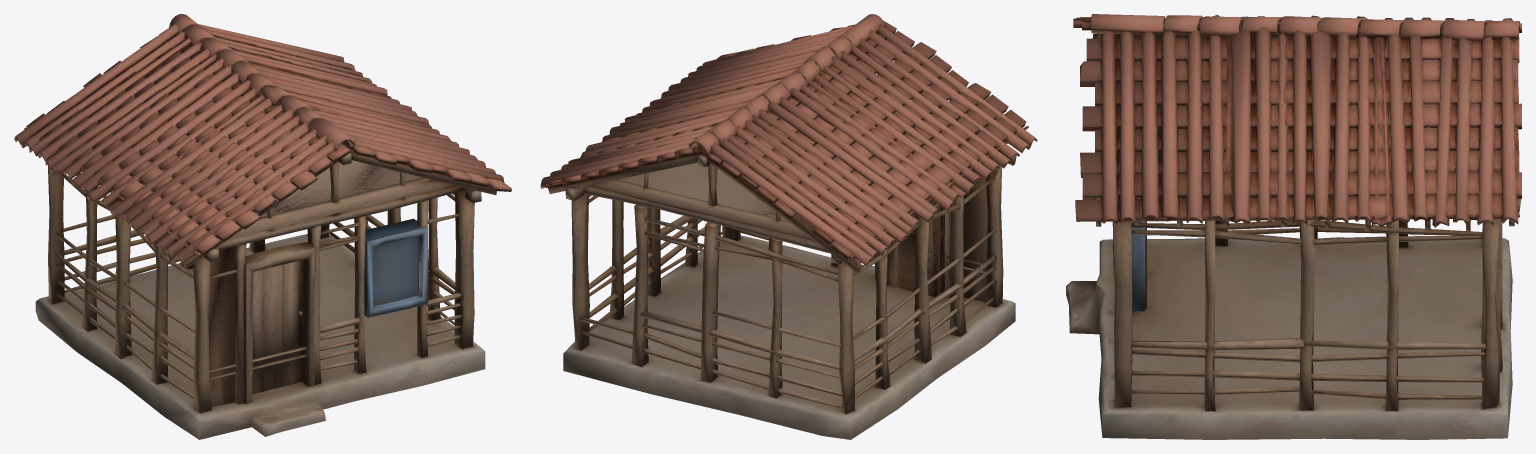
The model's file is casa_pau_a_pique.glb.
3 renders of one model, left to right at view 1: azimuth 30°, elevation 25°; view 2: azimuth 150°, elevation 25°; view 3: azimuth 270°, elevation 25°, orthographic. The views are drawn at different scales.
Visible parts, largest first — view 1: Casa de pau a pique; view 2: Casa de pau a pique; view 3: Casa de pau a pique.
Part boxes in pixels (x1=…): Casa de pau a pique: x1=14, y1=14, x2=511, y2=439; Casa de pau a pique: x1=540, y1=14, x2=1037, y2=439; Casa de pau a pique: x1=1066, y1=14, x2=1521, y2=439.
Size of the model in its own units: 0.998 by 0.7754 by 0.9551.
1 material, 1 textured.
